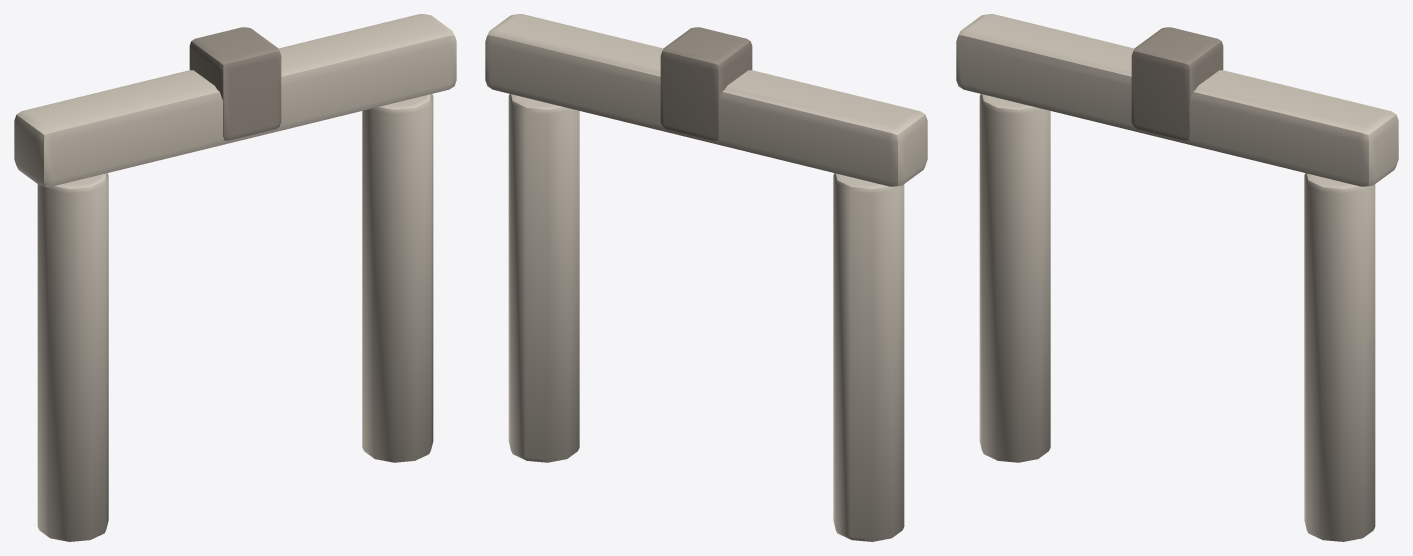
File: prop_ruin_arch.glb
3 views of the same model, side by side, from view 1: azimuth 30°, elevation 25°; view 2: azimuth 150°, elevation 25°; view 3: azimuth 330°, elevation 25° (orthographic).
Visible parts, largest first — view 1: arch_top, arch_col1, arch_col2, arch_key; view 2: arch_top, arch_col1, arch_col2, arch_key; view 3: arch_top, arch_col2, arch_col1, arch_key.
Boxes of the visible parts, x1,y1,x2,y2 form: arch_top: [14, 14, 456, 186]; arch_col1: [37, 173, 108, 541]; arch_col2: [362, 94, 433, 462]; arch_key: [189, 27, 281, 140]; arch_top: [485, 14, 927, 186]; arch_col1: [833, 173, 904, 541]; arch_col2: [508, 94, 579, 462]; arch_key: [660, 27, 752, 140]; arch_top: [956, 14, 1398, 186]; arch_col2: [1304, 173, 1375, 541]; arch_col1: [979, 94, 1050, 462]; arch_key: [1131, 27, 1223, 140].
Bounding box in the file's own units: 1.6 × 1.63 × 0.24.
